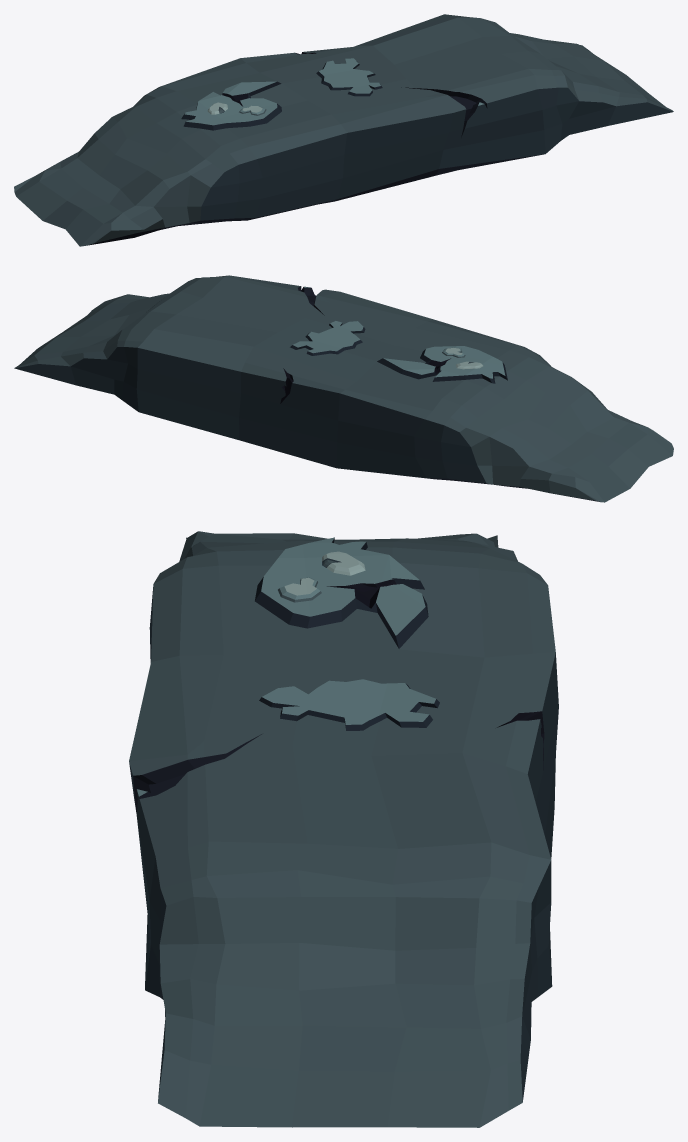
The model's file is Rock.obj.
3 views of the same model, one above another, from view 1: azimuth 30°, elevation 25°; view 2: azimuth 150°, elevation 25°; view 3: azimuth 270°, elevation 25° (orthographic). The views are drawn at different scales.
Visible parts, largest first — view 1: 2mRock_Cube; view 2: 2mRock_Cube; view 3: 2mRock_Cube.
Part boxes in pixels (box(x1,y1,x2,y2)): 2mRock_Cube: box(14, 14, 673, 246); 2mRock_Cube: box(14, 275, 673, 502); 2mRock_Cube: box(129, 531, 558, 1127).
Size of the model in its own units: 6.31 by 0.9271 by 1.99.
